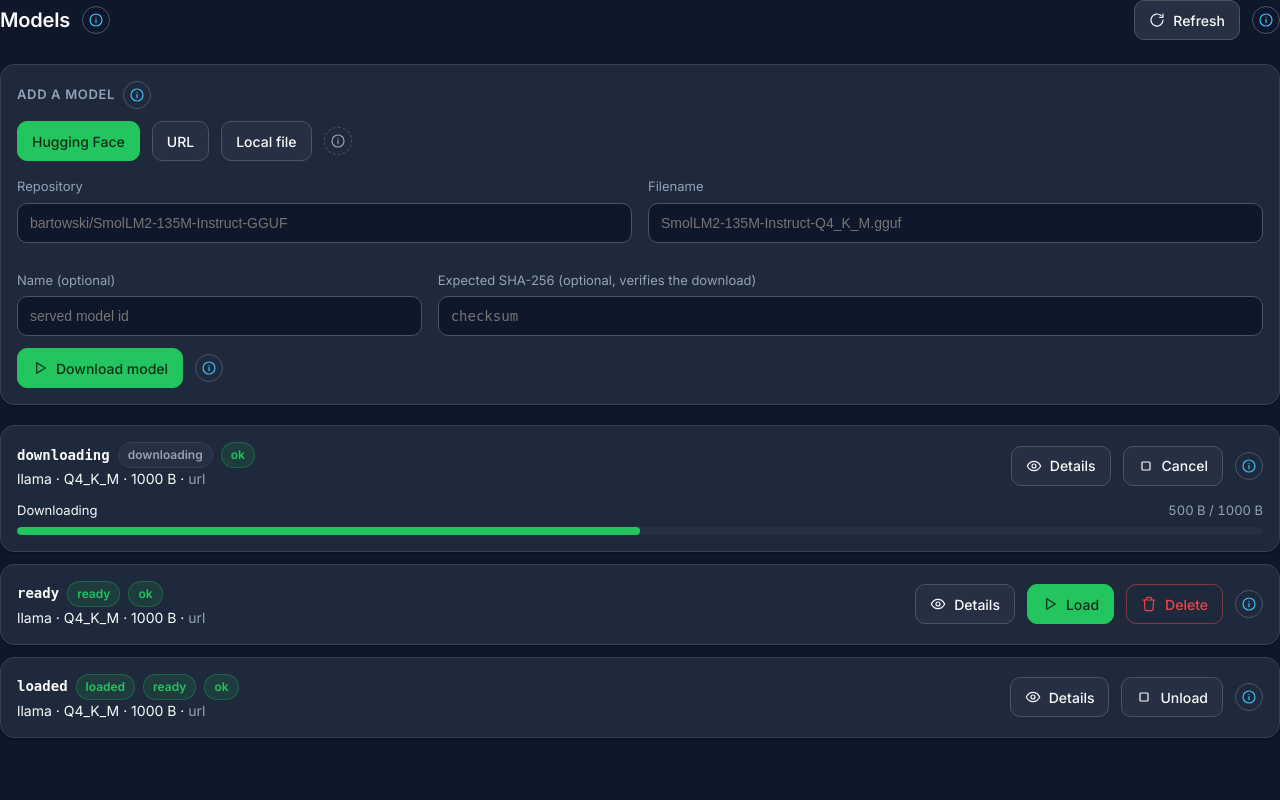
Test: wiring coverage of dashboard controls › Models: delete confirmation dialog
The image size is (1280, 800).
Click the button with aria-label "Delete ready".
click(1175, 604)  # box 1126,584 -> 1223,624
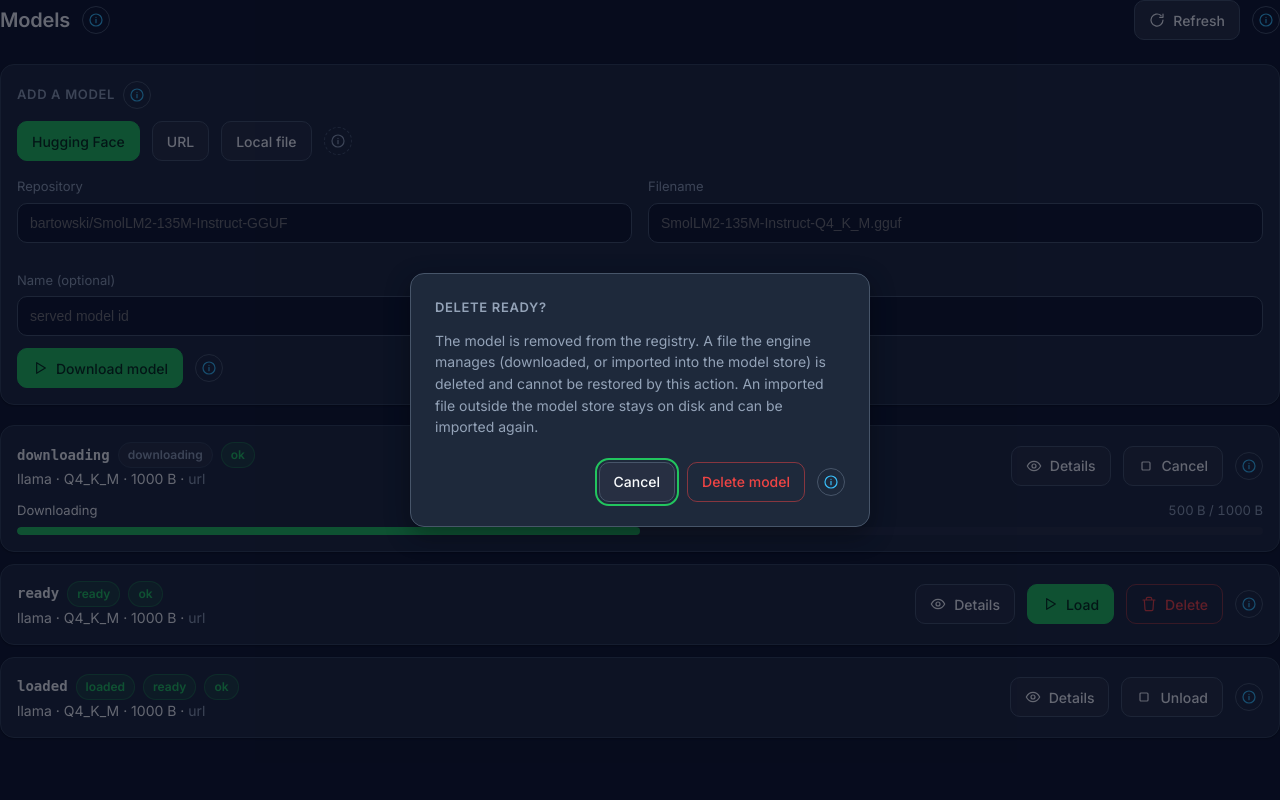
Now the button named "How this works: Delete model" is shown
The hint opens inside the dialog and explains the real call.
Click the button named "How this works: Delete model".
click(831, 482)  # box 817,468 -> 845,496
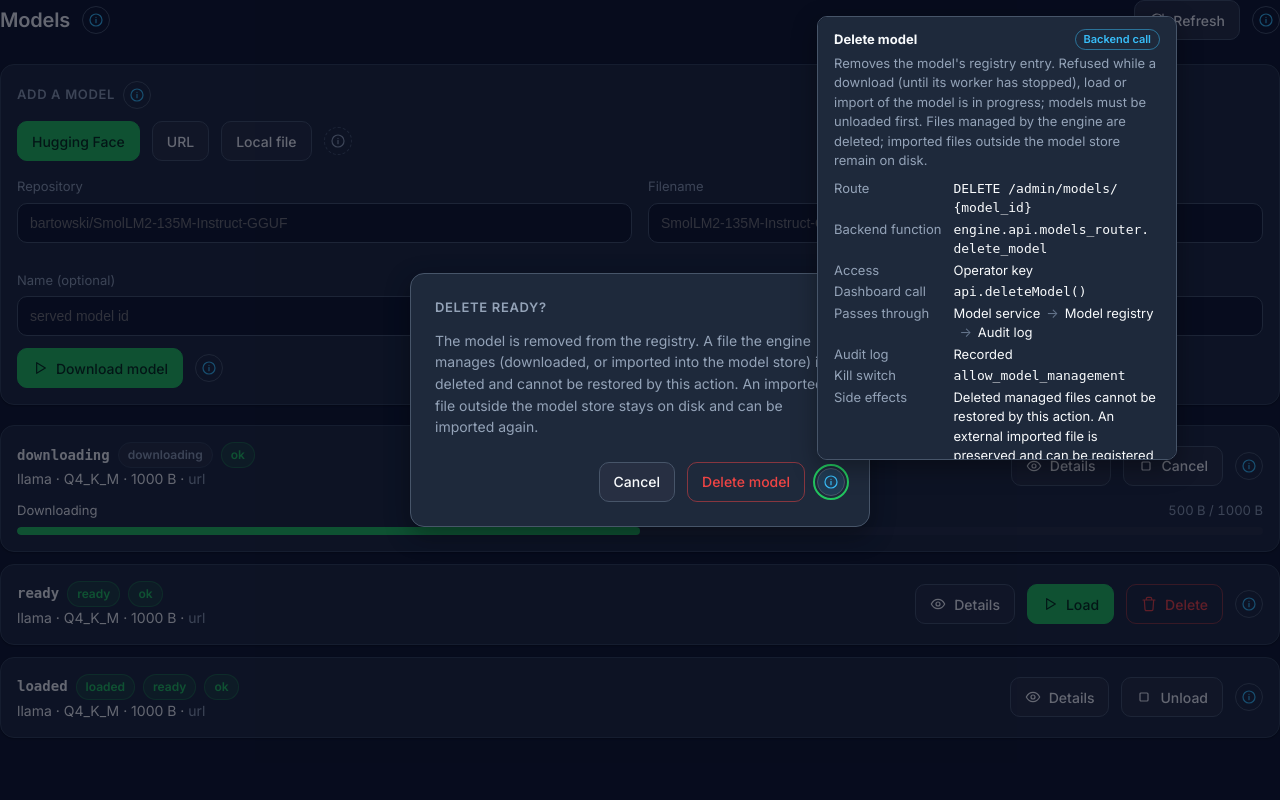
Now the element named "How this works: Delete model" shows "DELETE /admin/models/{model_id}", box 817,16 -> 1177,460
